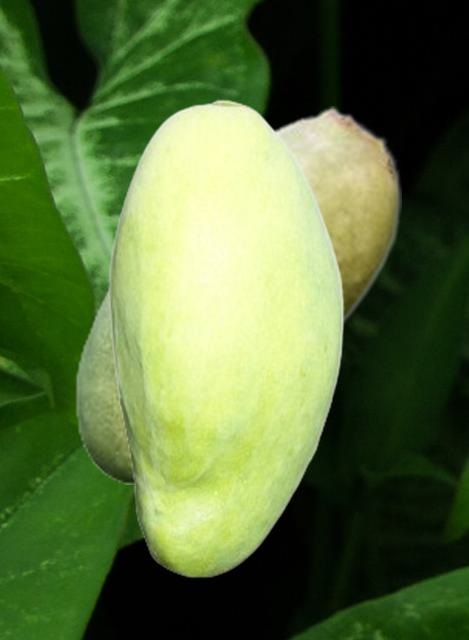green_mango: (74, 106, 400, 483), (108, 99, 343, 577)
